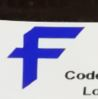Fisher: (6, 26, 87, 90)
